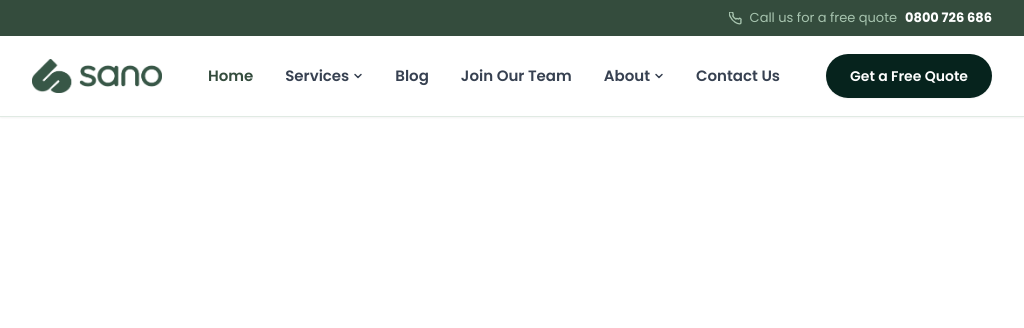
Test case: Header — About dropdown › shows all About links on mouse enter
This screenshot has width=1024, height=328.
Hover over the element "About" at (634, 76), box [604,64,664,88]
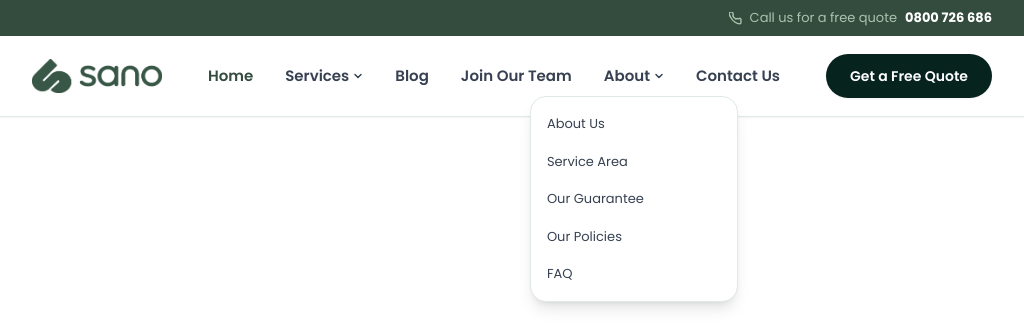
Expected: the link "About Us" is shown, [547,114,605,133]
Expected: the link "Service Area" is shown, [547,152,628,171]
Expected: the link "Our Guarantee" is shown, [547,189,644,208]
